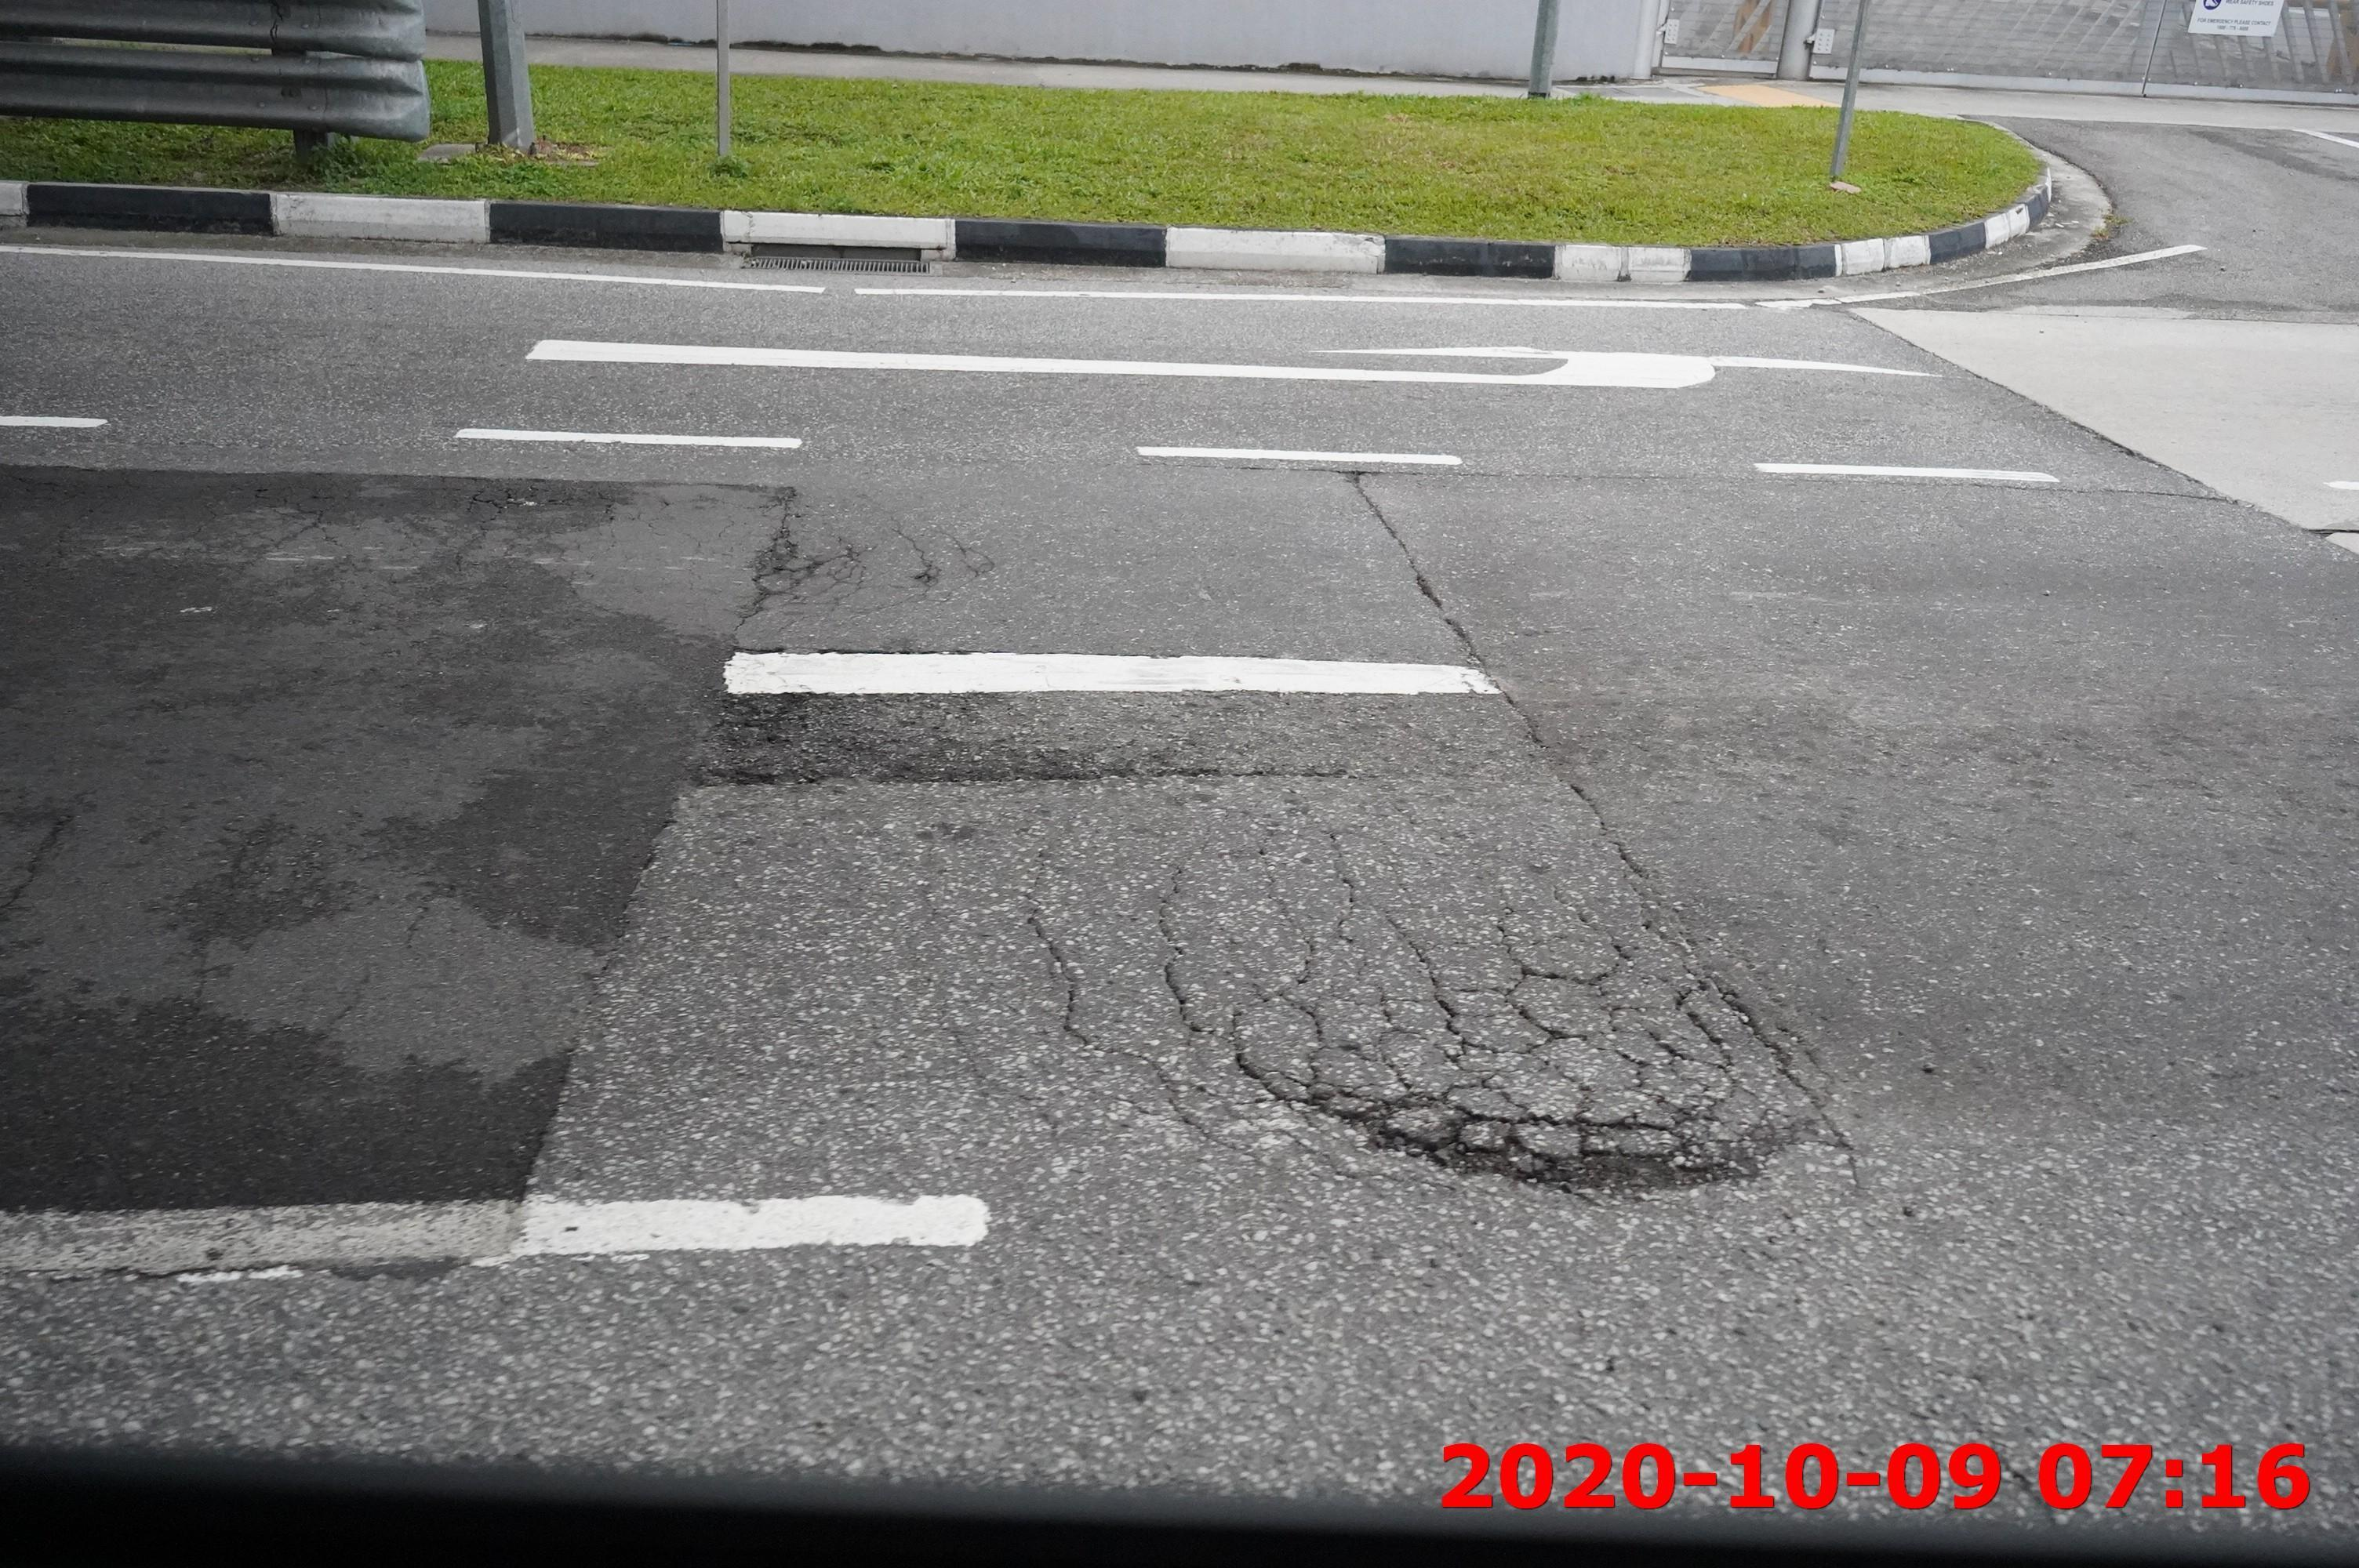alligator crack: (984, 814, 1872, 1230)
